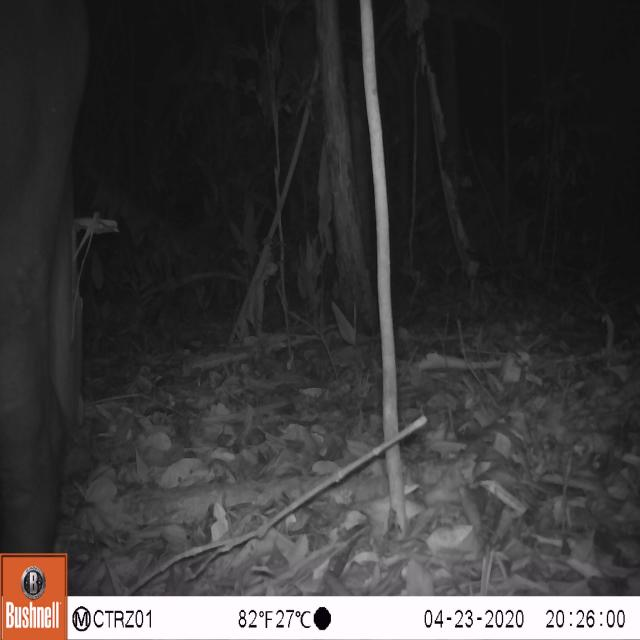Lowland Tapir: (0, 5, 99, 510)
